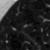node: (5, 39, 9, 44)
